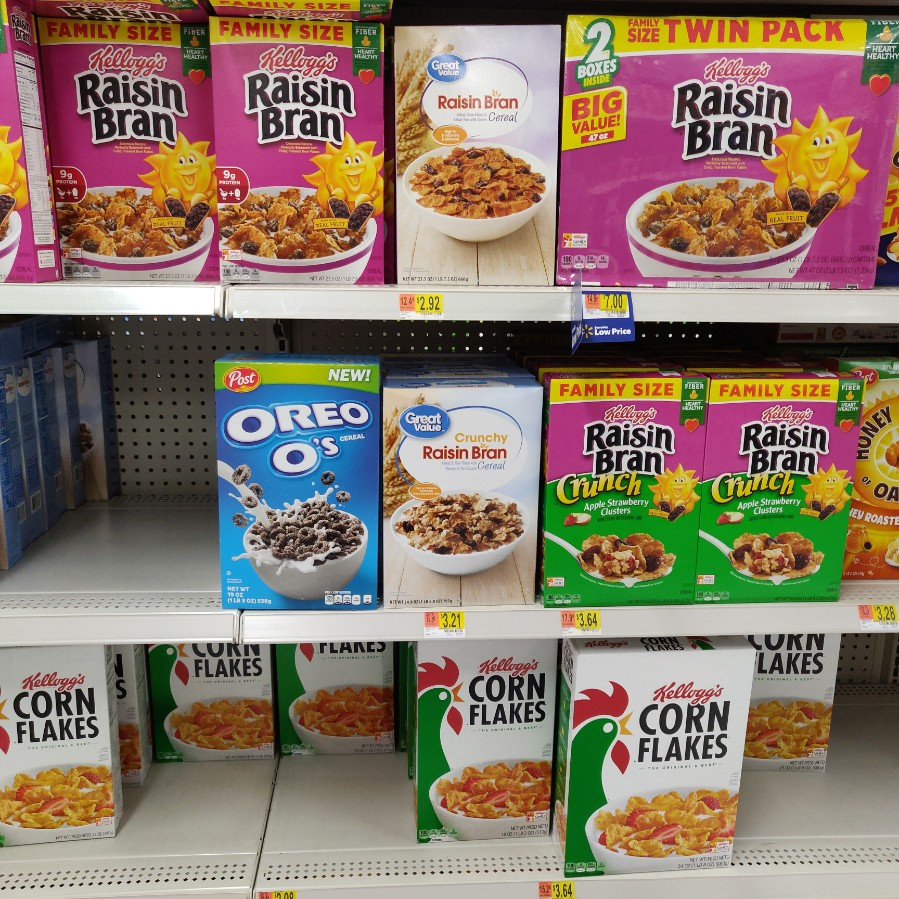Oreo-563424384: (210, 358, 385, 610)
